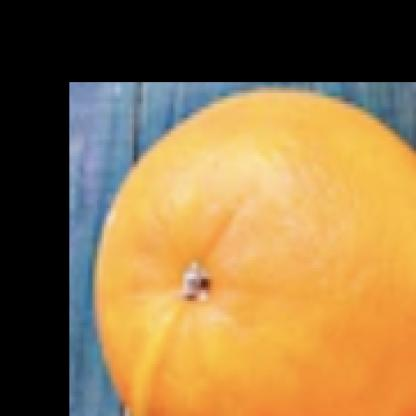fresh: (97, 95, 416, 416)
